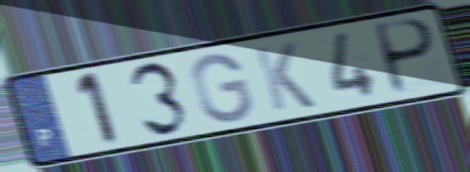1: (72, 68, 123, 148)
3: (123, 59, 190, 139)
4: (329, 28, 381, 102)
G: (189, 51, 256, 126)
K: (250, 39, 320, 114)
P: (373, 16, 439, 98)
